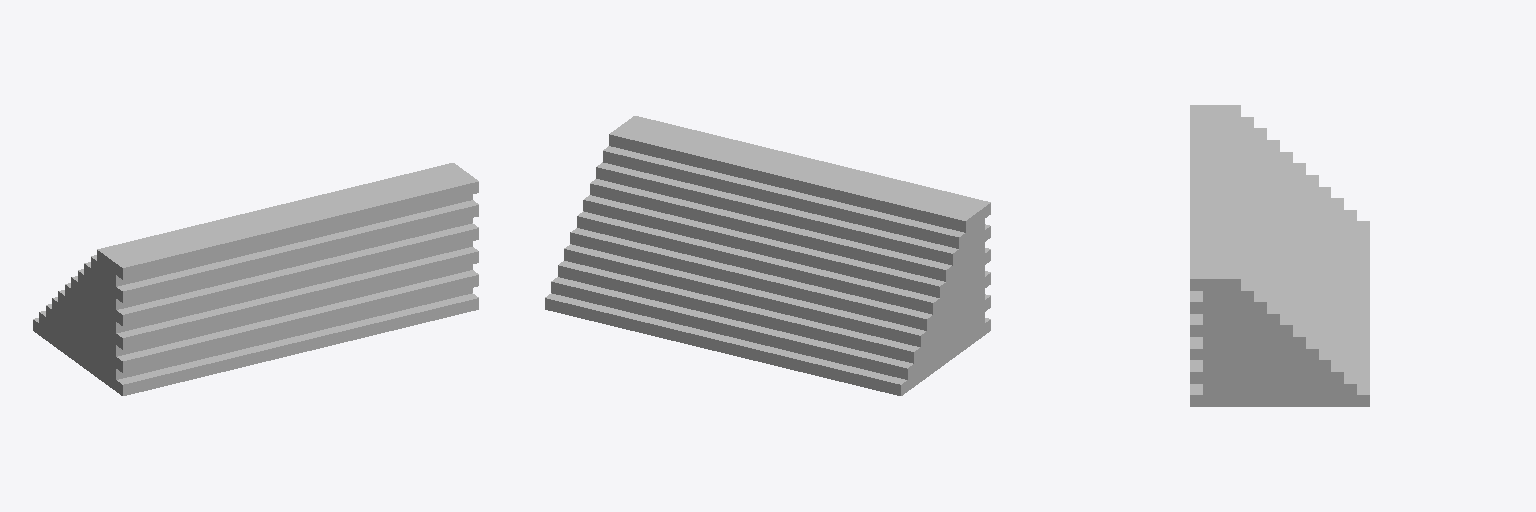
The model's file is Tremplin_2_coupé.obj.
The picture shows the model from 3 angles: view 1: azimuth 30°, elevation 25°; view 2: azimuth 150°, elevation 25°; view 3: azimuth 270°, elevation 25°; orthographic projection.
Bounding box in the file's own units: 32 × 11 × 14.